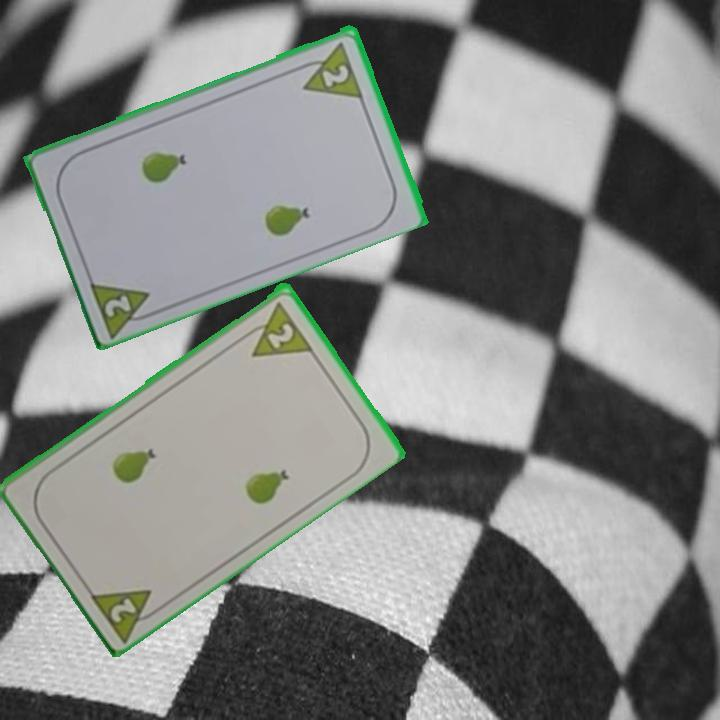2p: (237, 297, 315, 360), (85, 274, 162, 337), (85, 584, 167, 643), (292, 37, 366, 101)
